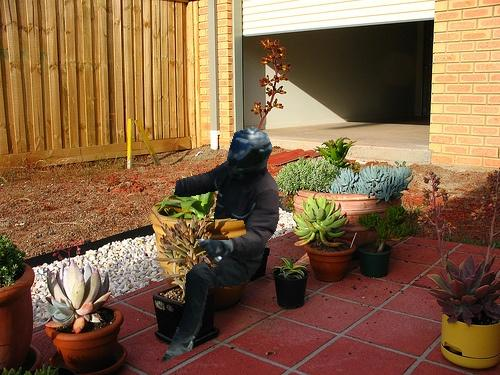tampered: (162, 127, 279, 362)
